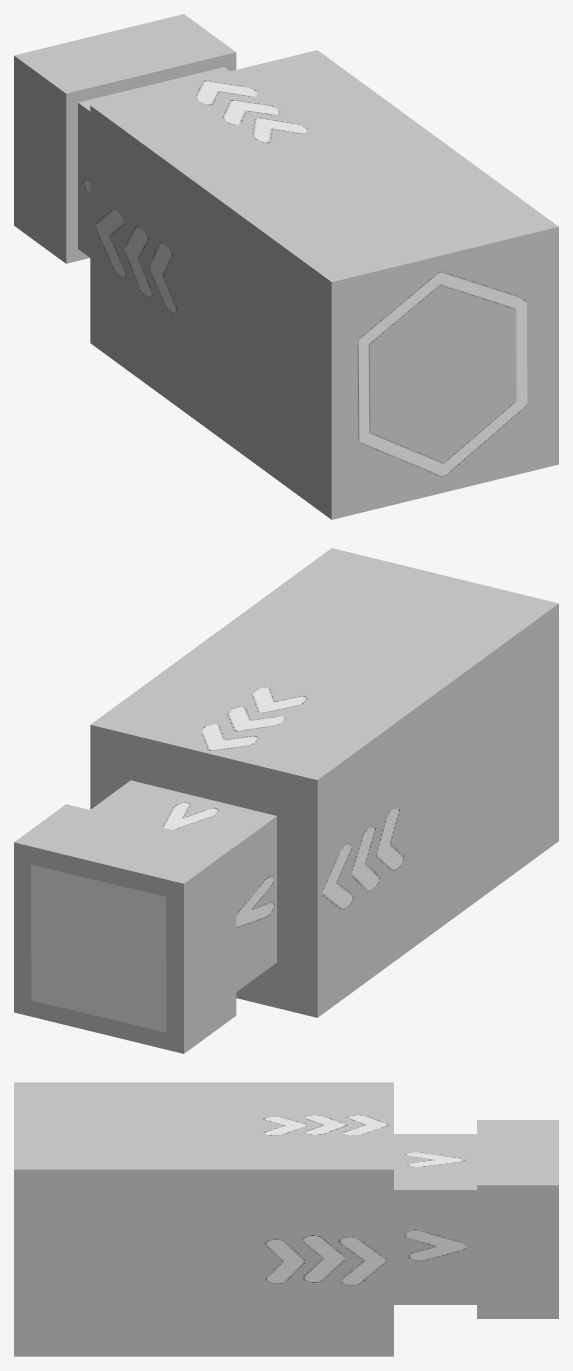
File: Common.gltf
The picture shows the model from 3 angles, top to bottom: view 1: azimuth 30°, elevation 25°; view 2: azimuth 150°, elevation 25°; view 3: azimuth 270°, elevation 25°; orthographic projection. The views are drawn at different scales.
Visible parts, largest first — view 1: Cube; view 2: Cube; view 3: Cube.
Boxes of the visible parts, <box> form: Cube: <box>14,14,558,519</box>; Cube: <box>14,548,558,1053</box>; Cube: <box>14,1082,558,1356</box>.
Size of the model in its own units: 0.3786 by 0.3786 by 1.
1 material, 1 textured.
